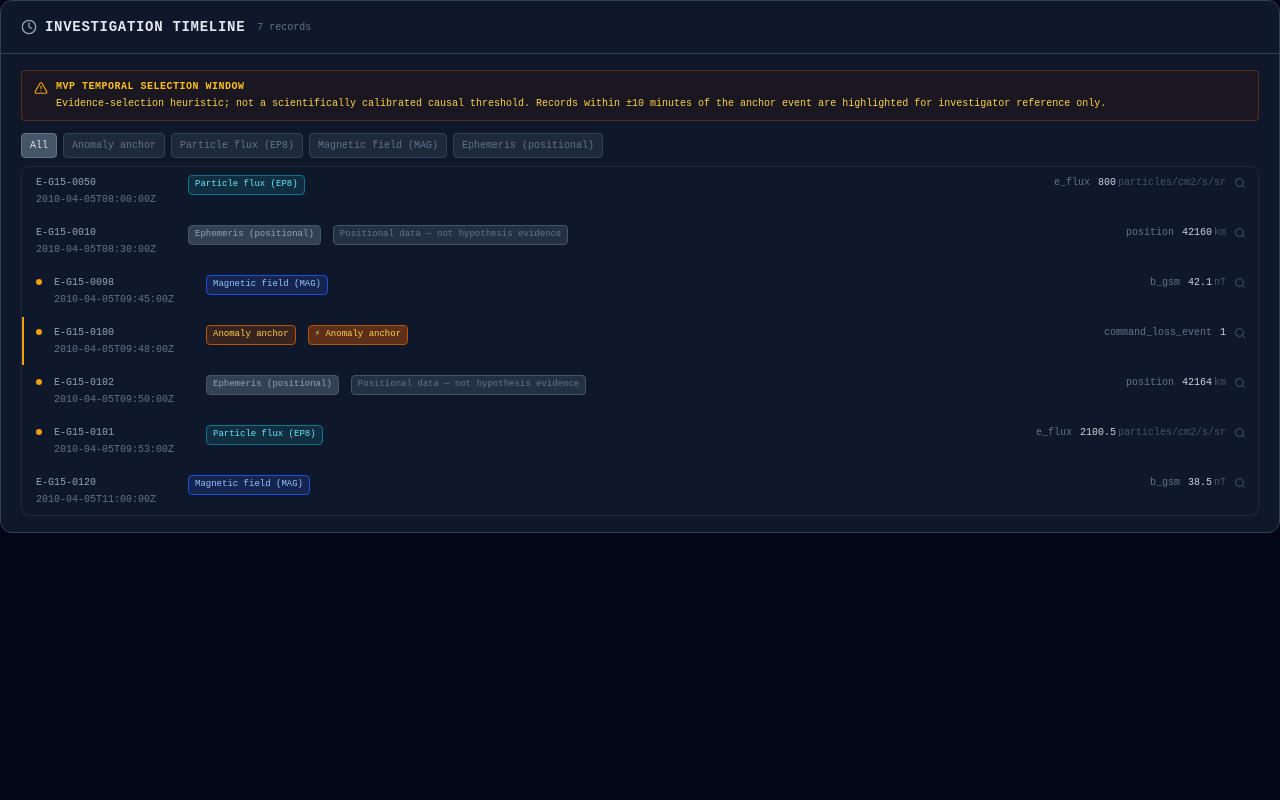
Scenario: InvestigationTimeline › TL-12: EPHEMERIS provenance shows the no-relationships note
The image size is (1280, 800).
Step 1. Click the button with test id "timeline-row-E-G15-0102" → (84, 383), box x1=22 y1=367 x2=1258 y2=415
(page scrolled)
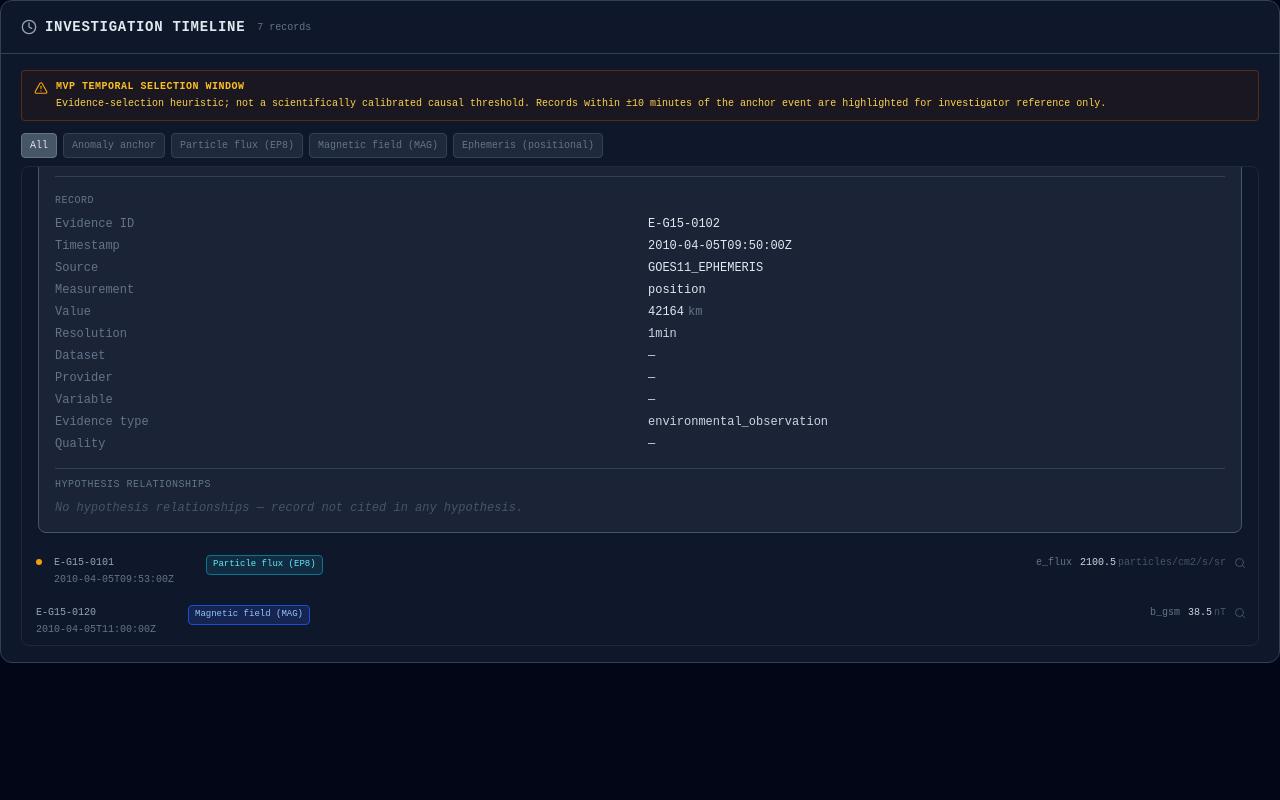
expect the element with test id "timeline-provenance-panel" is shown: met, box x1=38 y1=166 x2=1242 y2=533
expect the text with test id "tl-prov-source" reads "GOES11_EPHEMERIS": met, box x1=648 y1=261 x2=763 y2=275
expect the text with test id "tl-prov-no-relationships" shows "No hypothesis relationships": met, box x1=55 y1=501 x2=523 y2=515
